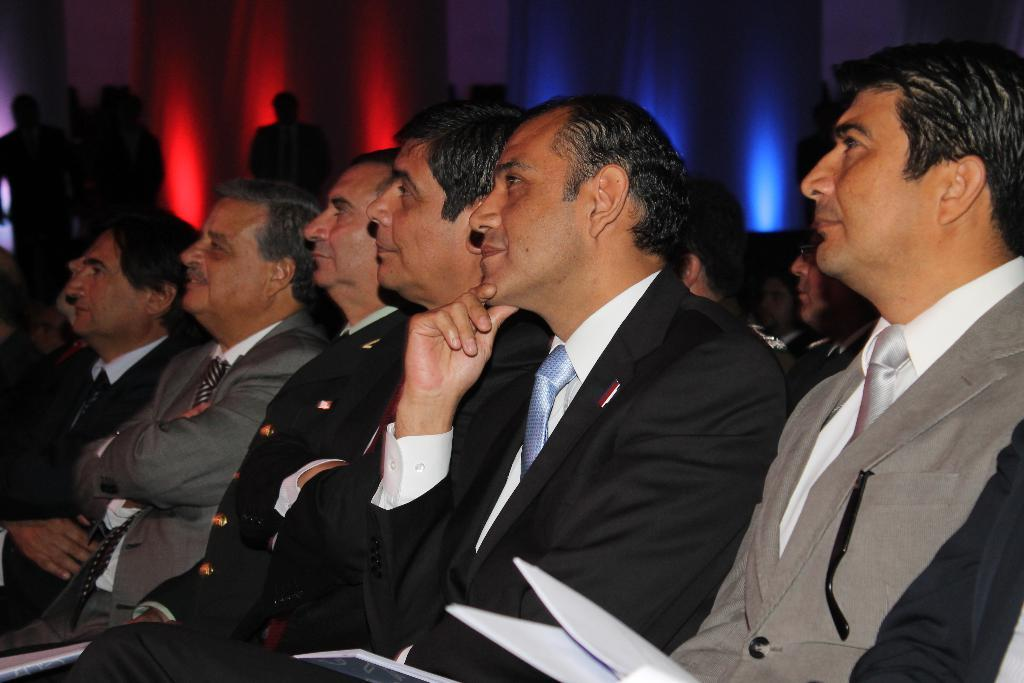Sem Máscara: (797, 87, 935, 276), (464, 120, 582, 308), (357, 139, 460, 291), (178, 200, 266, 310), (300, 160, 374, 286), (61, 231, 147, 337)
